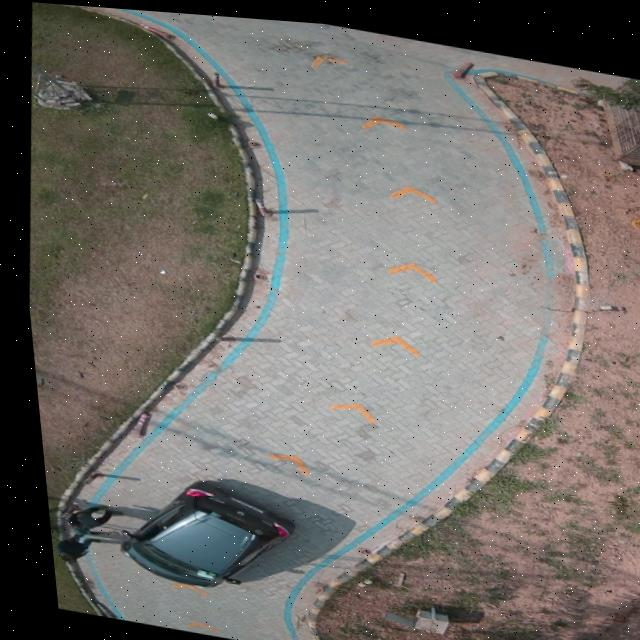car: (108, 477, 283, 584)
